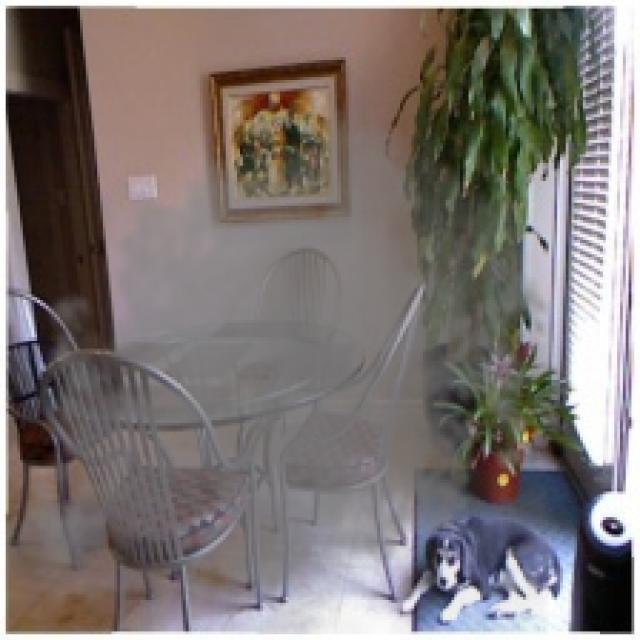Smoke: (11, 80, 560, 634)
